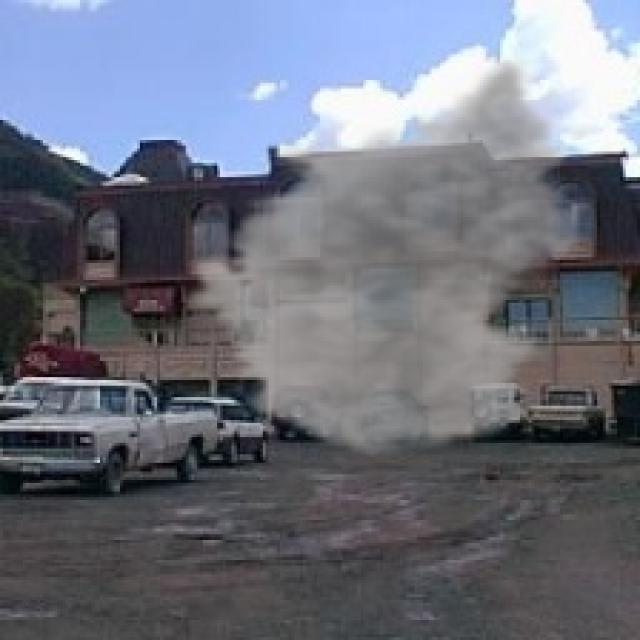smoke: (177, 54, 597, 460)
